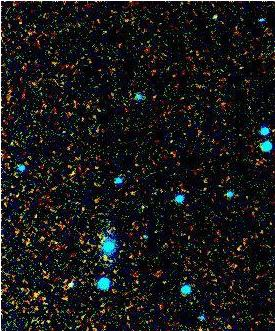star: (91, 242, 121, 272)
